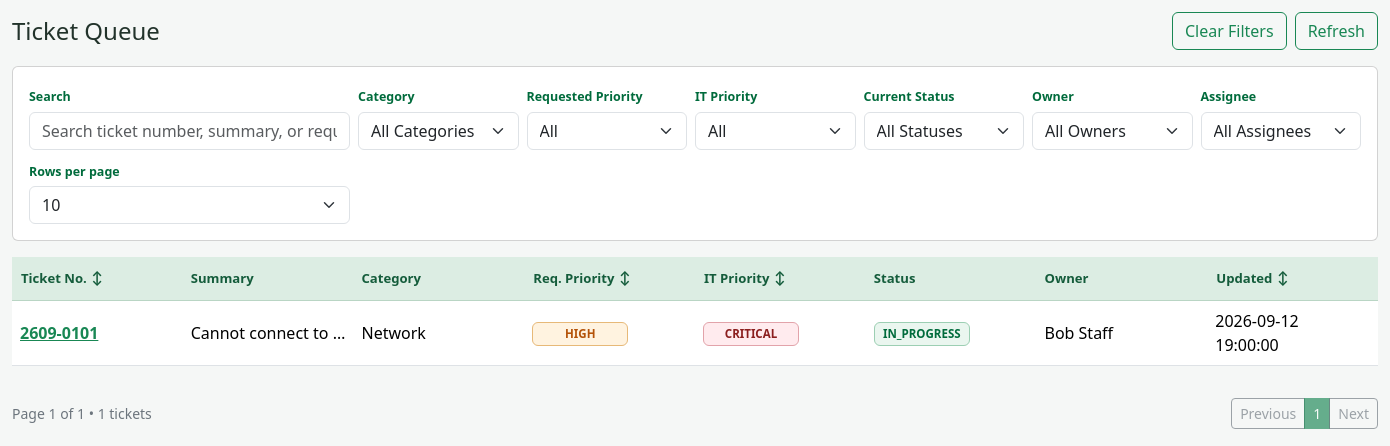
Test: StaffQueue (Lab 3 Issue #48, UI-07) › sort controls drive the queue sort query and show the active direction
# Desktop header sort: IT Priority descending, then toggles ascending.
Step 1. Click the button with aria-label "Sort by IT Priority" → (745, 279), box [703,270,786,288]
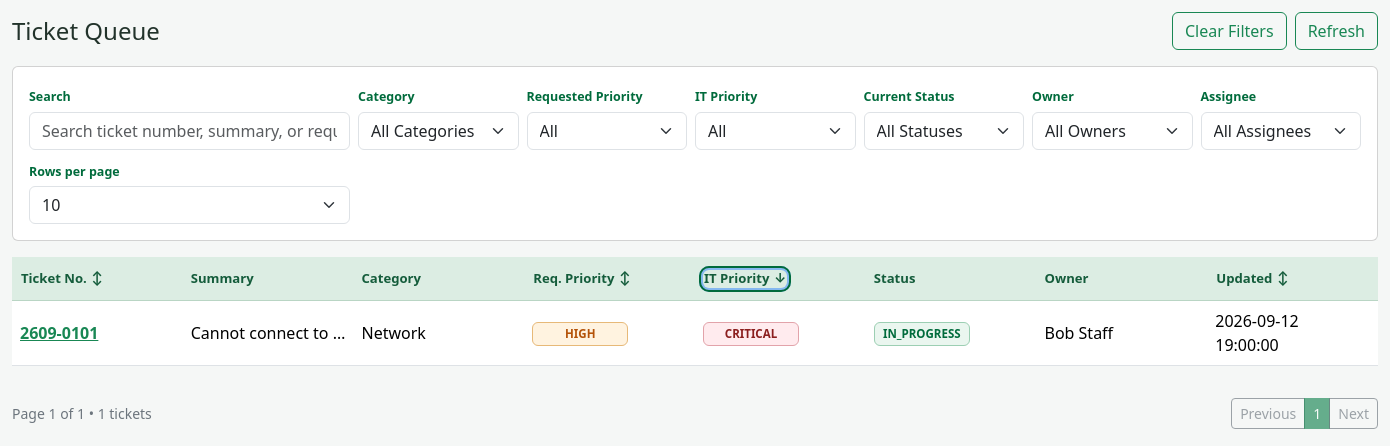
Expected: the button with aria-label "Sort by IT Priority" shows "↓"
Step 2. Click the button with aria-label "Sort by IT Priority" → (745, 279), box [703,270,787,288]
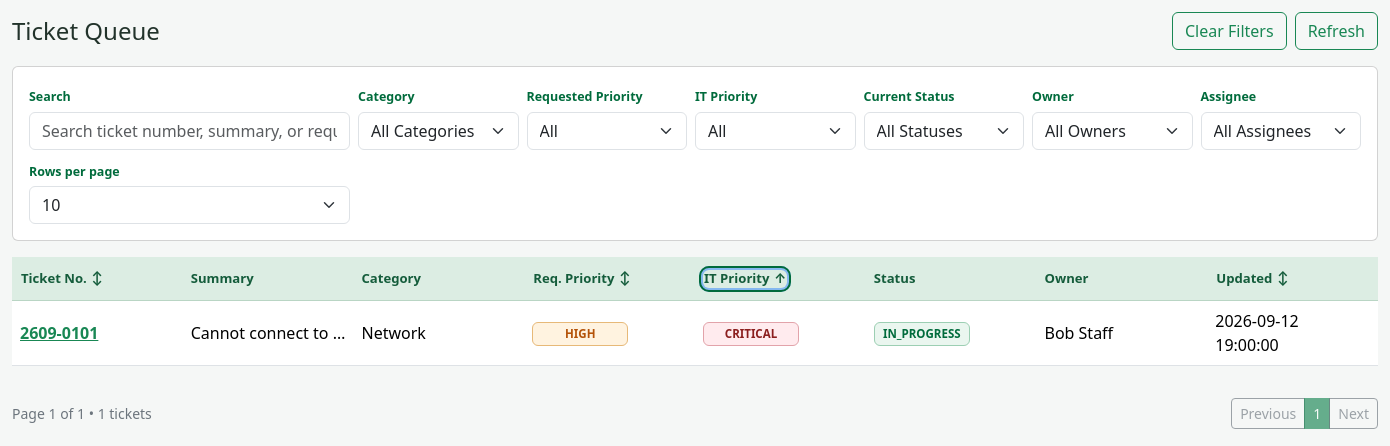
Expected: the button with aria-label "Sort by IT Priority" shows "↑", [703,270,787,288]
